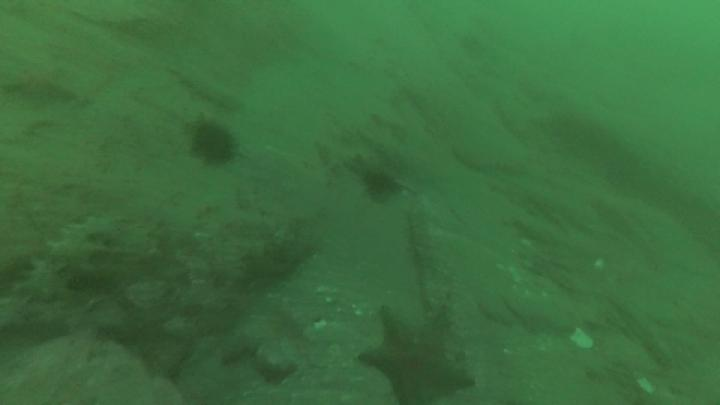echinus: (195, 125, 236, 164), (365, 176, 396, 198)
holothurian: (11, 215, 123, 302)
scallop: (573, 330, 596, 350), (637, 378, 658, 397)
starfish: (361, 308, 476, 405)
